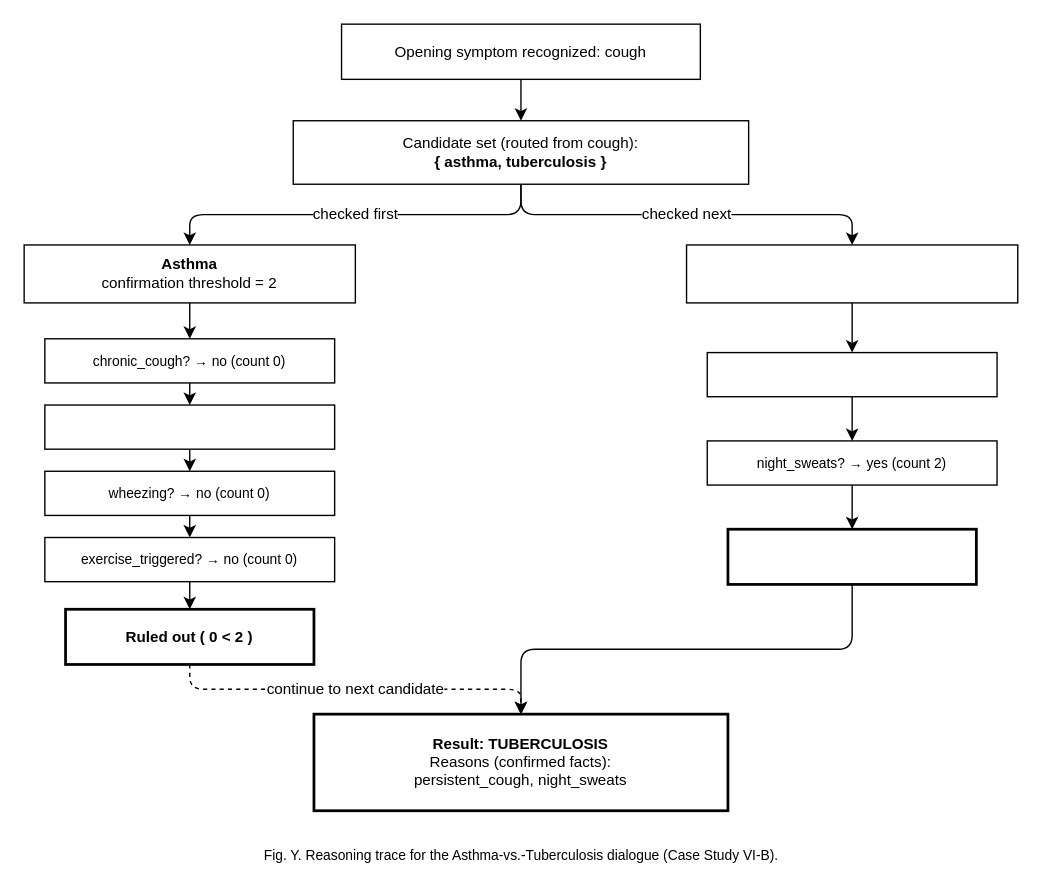
This 1042x890 diagram has some shape labels left out. The centre of each missing label's shape, as x and y in pixels:
chest_tightness? → no (count 0): the point at 189,426
Confirmed ( 2 ≥ 2 ): the point at 851,556
persistent_cough? → yes (count 1): the point at 851,374
Tuberculosis confirmation threshold = 2: the point at 851,273
